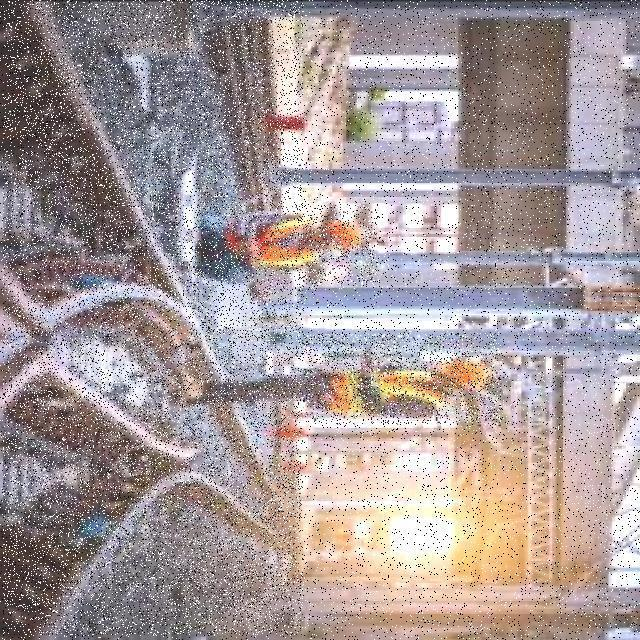rail: (4, 1, 304, 636)
